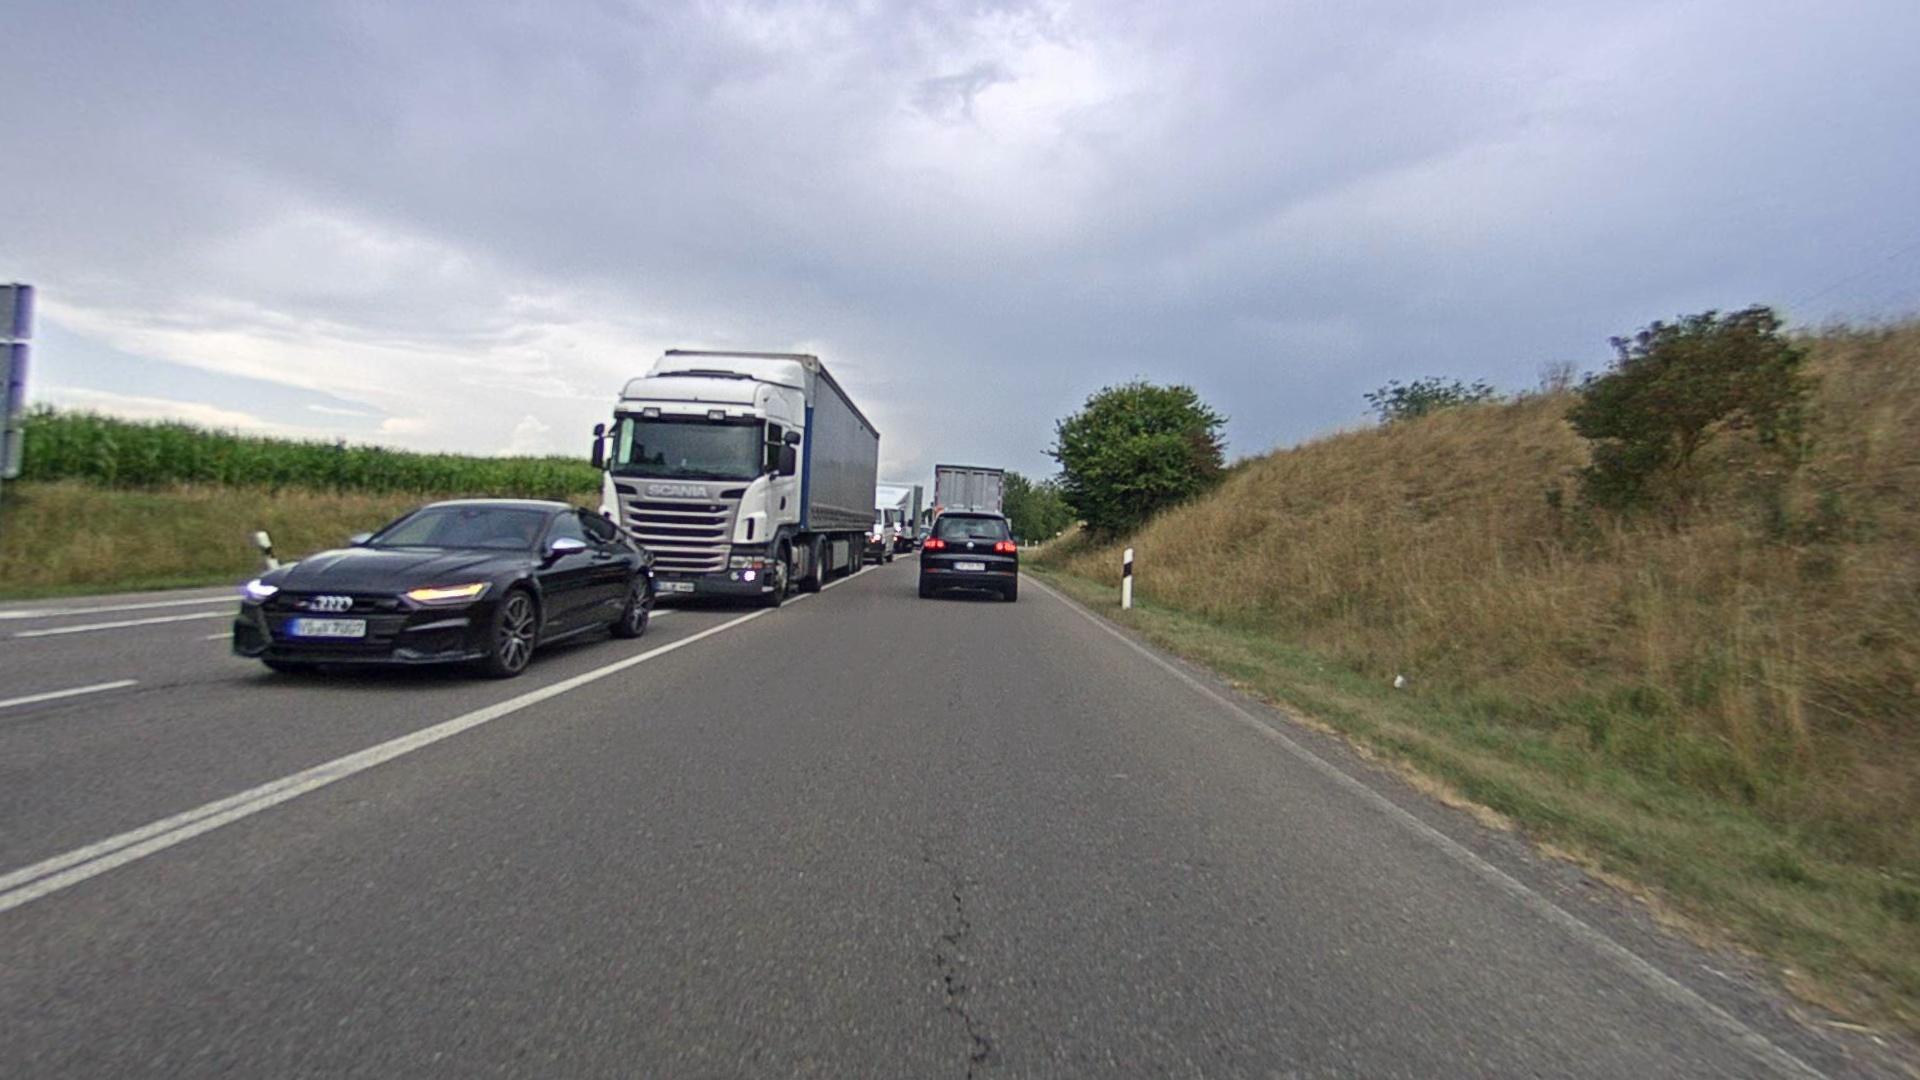car: (229, 496, 662, 686), (918, 512, 1021, 607)
truck: (593, 345, 881, 612)
